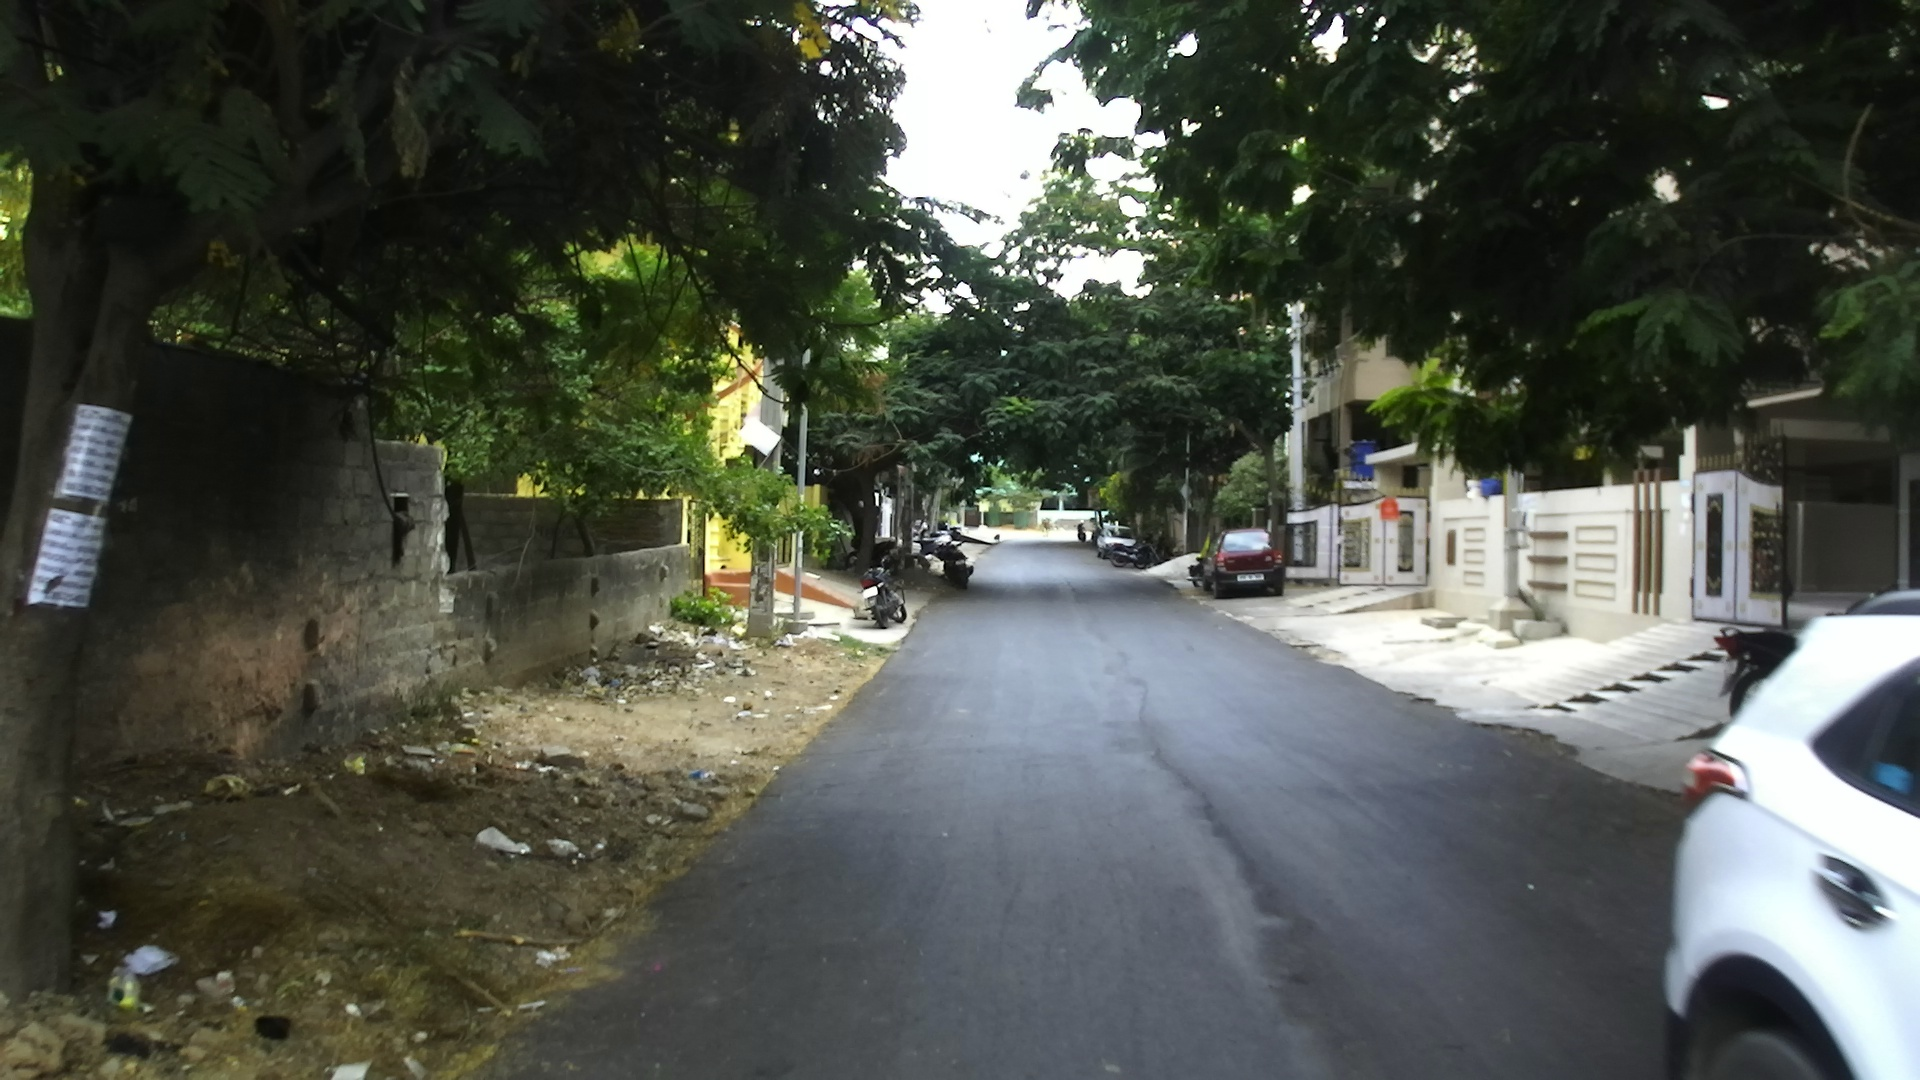vehicle: (1662, 587, 1919, 1073), (1215, 527, 1284, 597), (1101, 537, 1147, 568), (1097, 533, 1139, 567)
